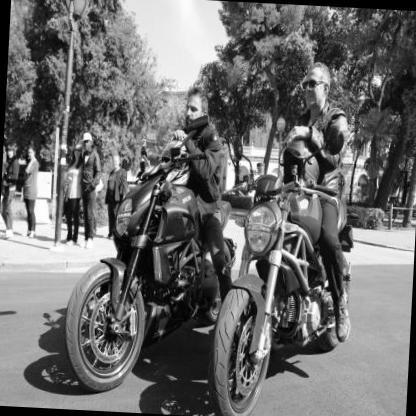moto: (21, 135, 233, 392), (195, 169, 381, 416)
